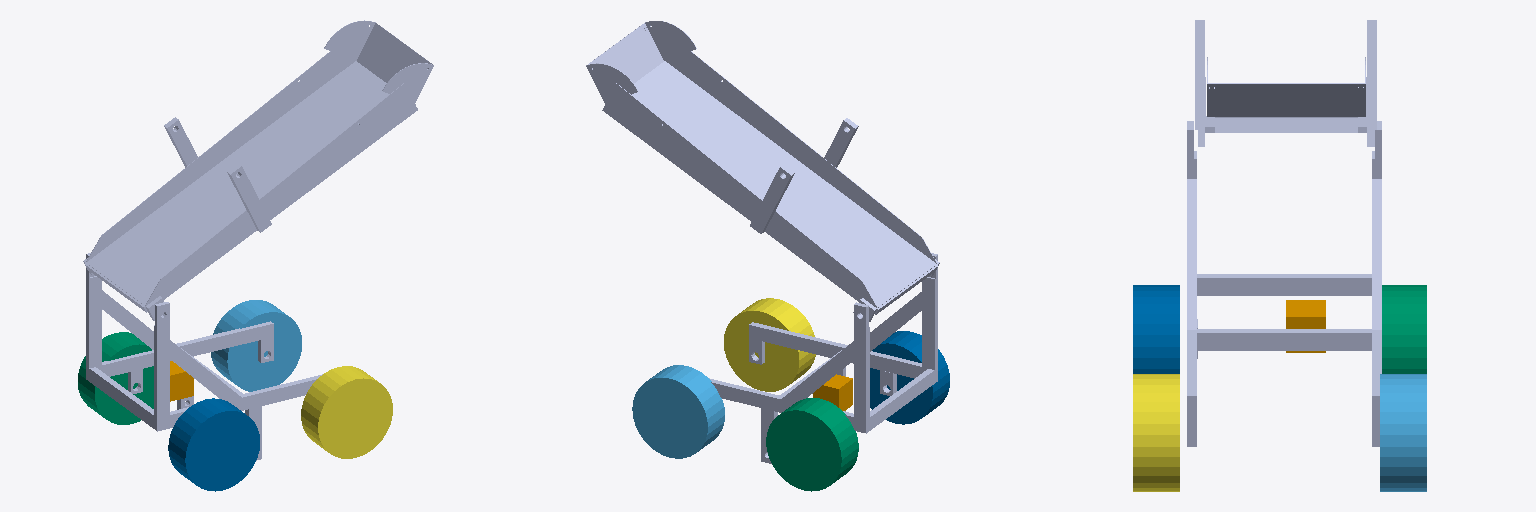
The robot description file, URDF, robot "traditional_2016":
<robot name="traditional_2016">
  <link
    name="base_link">
    <!--<inertial>
      <origin
        xyz="0.206554768494517 -0.0795431900918811 0.0631222383253213"
        rpy="0 0 0" />
      <mass
        value="4.21456466669016" />
      <inertia
        ixx="0.477265366590433"
        ixy="5.85653949780393E-07"
        ixz="0.0102918225723485"
        iyy="0.763593218192883"
        iyz="-3.27479812945717E-07"
        izz="0.364257676715045" />
    </inertial>
    <visual>
      <origin
        xyz="0 0 0"
        rpy="0 0 0" />
      <geometry>
        <mesh
          filename="package://gazebo_sim/meshes/Wheels.STL" />
      </geometry>
      <material
        name="">
        <color
          rgba="0.898039215686275 0.917647058823529 0.929411764705882 1" />
      </material>
    </visual>
    <collision>
      <origin
        xyz="0 0 0"
        rpy="0 0 0" />
      <geometry>
        <mesh
          filename="package://gazebo_sim/meshes/Wheels.STL" />
      </geometry>
    </collision>-->
    <visual>
      <geometry>
        <box size="0.1 0.1 0.1"/>
      </geometry>
      <origin xyz="0 0 0"/>
    </visual>
    <collision>
      <geometry>
        <box size="0.1 0.1 0.1"/>
      </geometry>
    </collision>
    <inertial>
        <origin xyz="0 0 0" rpy="0 0 0" />
        <mass value="1" />
        <inertia
          ixx="1.0" ixy="0.0" ixz="0.0"
          iyy="1.0" iyz="0.0"
          izz="1.0" />
    </inertial>
  </link>

  <link name="left_front_wheel">
    <visual>
      <geometry>
        <cylinder radius="0.15" length="0.118"/>
        <!--<mesh filename="package://gazebo_sim/meshes/wheel.stl" />-->
      </geometry>
      <material name="red"/>
      <origin xyz="0 0 0" rpy="1.57079632679 1.57079632679 0" />
    </visual>
    <collision>
      <geometry>
        <cylinder radius="0.15" length="0.118"/>
        <!--<mesh filename="package://gazebo_sim/meshes/wheel.stl" />-->
      </geometry>
      <origin xyz="0 0 0" rpy="1.57079632679 1.57079632679 0" />
    </collision>
    <mass value="1.05364116667" />
    <inertial>
      <origin xyz="0 0 0" rpy="0 0 0" />
      <mass value="1.05364116667" />
      <inertia
        ixx="1.0" ixy="0.0" ixz="0.0"
        iyy="1.0" iyz="0.0"
        izz="1.0" />
    </inertial>
  </link>

  <joint name="left_front_wheel_joint" type="continuous">
    <axis xyz="0 1 0" rpy="0 0 0" />
    <parent link="base_link"/>
    <child link="left_front_wheel"/>
    <origin xyz="0.47 0.247 -0.078" rpy="0 0 0"/>
  </joint>

  <!-- This block provides the simulator (Gazebo) with information on a few additional
  physical properties. See http://gazebosim.org/tutorials/?tut=ros_urdf for more-->
  <gazebo reference="left_front_wheel">
    <mu1 value="200.0"/>
    <mu2 value="100.0"/>
    <kp value="10000000.0" />
    <kd value="1.0" />
    <material>Gazebo/Grey</material>
  </gazebo>

  <!-- This block connects the wheel joint to an actuator (motor), which informs both
  simulation and visualization of the robot -->
  <transmission name="left_front_wheel_trans" type="SimpleTransmission">
    <type>transmission_interface/SimpleTransmission</type>
    <actuator name="left_front_wheel_motor">
      <mechanicalReduction>1</mechanicalReduction>
    </actuator>
    <joint name="left_front_wheel_joint">
      <hardwareInterface>VelocityJointInterface</hardwareInterface>
    </joint>
  </transmission>



  <link name="left_rear_wheel">
    <visual>
      <geometry>
        <cylinder radius="0.15" length="0.118"/>
        <!--<mesh filename="package://gazebo_sim/meshes/wheel.stl" />-->
      </geometry>
      <material name="red"/>
      <origin xyz="0 0 0" rpy="1.57079632679 1.57079632679 0" />
    </visual>
    <collision>
      <geometry>
        <cylinder radius="0.15" length="0.118"/>
        <!--<mesh filename="package://gazebo_sim/meshes/wheel.stl" />-->
      </geometry>
      <origin xyz="0 0 0" rpy="1.57079632679 1.57079632679 0" />
    </collision>
    <mass value="1.05364116667" />
    <inertial>
      <origin xyz="0 0 0" rpy="0 0 0" />
      <mass value="1.05364116667" />
      <inertia
        ixx="1.0" ixy="0.0" ixz="0.0"
        iyy="1.0" iyz="0.0"
        izz="1.0" />
    </inertial>
  </link>

  <joint name="left_rear_wheel_joint" type="continuous">
    <axis xyz="0 1 0" rpy="0 0 0" />
    <parent link="base_link"/>
    <child link="left_rear_wheel"/>
    <origin xyz="-0.06 0.247 -0.078" rpy="0 0 0"/>
  </joint>

  <!-- This block provides the simulator (Gazebo) with information on a few additional
  physical properties. See http://gazebosim.org/tutorials/?tut=ros_urdf for more-->
  <gazebo reference="left_rear_wheel">
    <mu1 value="200.0"/>
    <mu2 value="100.0"/>
    <kp value="10000000.0" />
    <kd value="1.0" />
    <material>Gazebo/Grey</material>
  </gazebo>

  <!-- This block connects the wheel joint to an actuator (motor), which informs both
  simulation and visualization of the robot -->
  <transmission name="left_rear_wheel_trans" type="SimpleTransmission">
    <type>transmission_interface/SimpleTransmission</type>
    <actuator name="left_rear_wheel_motor">
      <mechanicalReduction>1</mechanicalReduction>
    </actuator>
    <joint name="left_rear_wheel_joint">
      <hardwareInterface>VelocityJointInterface</hardwareInterface>
    </joint>
  </transmission>


  <link name="right_front_wheel">
    <visual>
      <geometry>
        <cylinder radius="0.15" length="0.118"/>
        <!--<mesh filename="package://gazebo_sim/meshes/wheel.stl" />-->
      </geometry>
      <material name="red"/>
      <origin xyz="0 0 0" rpy="1.57079632679 1.57079632679 0" />
    </visual>
    <collision>
      <geometry>
        <cylinder radius="0.15" length="0.118"/>
        <!--<mesh filename="package://gazebo_sim/meshes/wheel.stl" />-->
      </geometry>
      <origin xyz="0 0 0" rpy="1.57079632679 1.57079632679 0" />
    </collision>
    <mass value="1.05364116667" />
    <inertial>
      <origin xyz="0 0 0" rpy="0 0 0" />
      <mass value="1.05364116667" />
      <inertia
        ixx="1.0" ixy="0.0" ixz="0.0"
        iyy="1.0" iyz="0.0"
        izz="1.0" />
    </inertial>
  </link>

  <joint name="right_front_wheel_joint" type="continuous">
    <axis xyz="0 1 0" rpy="0 0 0" />
    <parent link="base_link"/>
    <child link="right_front_wheel"/>
    <origin xyz="0.47 -0.38 -0.078" rpy="0 0 0"/>
  </joint>

  <!-- This block provides the simulator (Gazebo) with information on a few additional
  physical properties. See http://gazebosim.org/tutorials/?tut=ros_urdf for more-->
  <gazebo reference="right_front_wheel">
    <mu1 value="200.0"/>
    <mu2 value="100.0"/>
    <kp value="10000000.0" />
    <kd value="1.0" />
    <material>Gazebo/Grey</material>
  </gazebo>

  <!-- This block connects the wheel joint to an actuator (motor), which informs both
  simulation and visualization of the robot -->
  <transmission name="right_front_wheel_trans" type="SimpleTransmission">
    <type>transmission_interface/SimpleTransmission</type>
    <actuator name="right_front_wheel_motor">
      <mechanicalReduction>1</mechanicalReduction>
    </actuator>
    <joint name="right_front_wheel_joint">
      <hardwareInterface>VelocityJointInterface</hardwareInterface>
    </joint>
  </transmission>


  <link name="right_rear_wheel">
    <visual>
      <geometry>
        <cylinder radius="0.15" length="0.118"/>
        <!--<mesh filename="package://gazebo_sim/meshes/wheel.stl" />-->
      </geometry>
      <material name="red"/>
      <origin xyz="0 0 0" rpy="1.57079632679 1.57079632679 0" />
    </visual>
    <collision>
      <geometry>
        <cylinder radius="0.15" length="0.118"/>
        <!--<mesh filename="package://gazebo_sim/meshes/wheel.stl" />-->
      </geometry>
      <origin xyz="0 0 0" rpy="0 0 0" />
    </collision>
    <mass value="1.05364116667" />
    <inertial>
      <origin xyz="0 0 0" rpy="0 0 0" />
      <mass value="1.05364116667" />
      <inertia
        ixx="1.0" ixy="0.0" ixz="0.0"
        iyy="1.0" iyz="0.0"
        izz="1.0" />
    </inertial>
  </link>

  <joint name="right_rear_wheel_joint" type="continuous">
    <axis xyz="0 1 0" rpy="0 0 0" />
    <parent link="base_link"/>
    <child link="right_rear_wheel"/>
    <origin xyz="-0.06 -0.38 -0.078" rpy="0 0 0"/>
  </joint>

  <!-- This block provides the simulator (Gazebo) with information on a few additional
  physical properties. See http://gazebosim.org/tutorials/?tut=ros_urdf for more-->
  <gazebo reference="right_rear_wheel">
    <mu1 value="200.0"/>
    <mu2 value="100.0"/>
    <kp value="10000000.0" />
    <kd value="1.0" />
    <material>Gazebo/Grey</material>
  </gazebo>

  <!-- This block connects the wheel joint to an actuator (motor), which informs both
  simulation and visualization of the robot -->
  <transmission name="right_rear_wheel_trans" type="SimpleTransmission">
    <type>transmission_interface/SimpleTransmission</type>
    <actuator name="right_rear_wheel_motor">
      <mechanicalReduction>1</mechanicalReduction>
    </actuator>
    <joint name="right_rear_wheel_joint">
      <hardwareInterface>VelocityJointInterface</hardwareInterface>
    </joint>
  </transmission>

  <link
    name="Chassis">
    <inertial>
      <origin
        xyz="0.00537203309859674 0.0324234507011438 0.0264308659835239"
        rpy="0 0 0" />
      <mass
        value="5.77445129953138" />
      <inertia
        ixx="0.365239843707374"
        ixy="-0.0788206642300129"
        ixz="-7.33214184688591E-05"
        iyy="0.534123072874955"
        iyz="-0.000142675188855589"
        izz="0.347697997490539" />
    </inertial>
    <visual>
      <origin
        xyz="0 0 0"
        rpy="0 0 0" />
      <geometry>
        <mesh
          filename="package://gazebo_sim/meshes/Chassis.STL" />
      </geometry>
      <material
        name="">
        <color
          rgba="0.792156862745098 0.819607843137255 0.933333333333333 1" />
      </material>
    </visual>
    <collision>
      <origin
        xyz="0 0 0"
        rpy="0 0 0" />
      <geometry>
        <mesh
          filename="package://gazebo_sim/meshes/Chassis.STL" />
      </geometry>
    </collision>
  </link>
  <joint
    name="Chassis Joint"
    type="fixed">
    <origin
      xyz="0.0010512 -0.028441 0.02543"
      rpy="1.5708 0 0" />
    <parent
      link="base_link" />
    <child
      link="Chassis" />
    <axis
      xyz="0 0 0" />
  </joint>
  <link
    name="Sideplate Frame">
    <inertial>
      <origin
        xyz="0.534654881934719 0.0554942463427044 0.0222254189562616"
        rpy="0 0 0" />
      <!--<mass
        value="4.69519028792857" />-->
        <mass
        value="0.1" />
      <inertia
        ixx="0.152487065123148"
        ixy="0.000712809927621225"
        ixz="3.82126318742745E-05"
        iyy="0.689273285117902"
        iyz="-8.85452571210599E-07"
        izz="0.563699922198218" />
    </inertial>
    <visual>
      <origin
        xyz="0 0 0"
        rpy="0 0 0" />
      <geometry>
        <mesh
          filename="package://gazebo_sim/meshes/Sideplate Frame.STL" />
      </geometry>
      <material
        name="">
        <color
          rgba="0.792156862745098 0.819607843137255 0.933333333333333 1" />
      </material>
    </visual>
    <collision>
      <origin
        xyz="0 0 0"
        rpy="0 0 0" />
      <geometry>
        <mesh
          filename="package://gazebo_sim/meshes/Sideplate Frame.STL" />
      </geometry>
    </collision>
  </link>
  <joint
    name="Sideplate_Frame_Joint"
    type="revolute">
    <origin
      xyz="-0.21821 0.39829 0"
      rpy="0 0 0.44824" />
    <parent
      link="Chassis" />
    <child
      link="Sideplate Frame" />
    <axis
      xyz="0 0 -1" />
    <limit
      lower="-.25"
      upper="1"
      effort="0"
      velocity="0" />
  </joint>

  <!-- This block connects the Sideplate_Frame_Joint joint to an actuator (motor), which informs both
  simulation and visualization of the robot -->
  <transmission name="sideplate_frame_trans" type="SimpleTransmission">
    <type>transmission_interface/SimpleTransmission</type>
    <actuator name="sideplate_frame_motor">
      <mechanicalReduction>1</mechanicalReduction>
    </actuator>
    <joint name="Sideplate_Frame_Joint">
      <hardwareInterface>PositionJointInterface</hardwareInterface>
    </joint>
  </transmission>

  <link
    name="Front Piece">
    <inertial>
      <origin
        xyz="0.0211201213624709 -0.0622114951604884 0.0405972047787488"
        rpy="0 0 0" />
      <!--<mass
        value="0.239915601207774" />-->
        <mass
        value="0.01" />
      <inertia
        ixx="0.000803970641621702"
        ixy="1.55552742603821E-17"
        ixz="3.42480201724112E-18"
        iyy="0.00613090605048072"
        iyz="-1.03391895166171E-05"
        izz="0.00595803680721281" />
    </inertial>
    <visual>
      <origin
        xyz="0 0 0"
        rpy="0 0 0" />
      <geometry>
        <mesh
          filename="package://gazebo_sim/meshes/Front Piece.STL" />
      </geometry>
      <material
        name="">
        <color
          rgba="0.792156862745098 0.819607843137255 0.933333333333333 1" />
      </material>
    </visual>
    <collision>
      <origin
        xyz="0 0 0"
        rpy="0 0 0" />
      <geometry>
        <mesh
          filename="package://gazebo_sim/meshes/Front Piece.STL" />
      </geometry>
    </collision>
  </link>
  <joint
    name="Front_Piece_Joint"
    type="revolute">
    <origin
      xyz="1.1653 0.044207 0"
      rpy="0.78967 -1.5708 0" />
    <parent
      link="Sideplate Frame" />
    <child
      link="Front Piece" />
    <axis
      xyz="-1 0 0" />
    <limit
      lower="-2.935619449019"
      upper="-1.57079632679"
      effort="0"
      velocity="0" />
  </joint>

  <!-- This block connects the Front_Piece_Joint joint to an actuator (motor), which informs both
  simulation and visualization of the robot -->
  <transmission name="front_piece_trans" type="SimpleTransmission">
    <type>transmission_interface/SimpleTransmission</type>
    <actuator name="front_piece_motor">
      <mechanicalReduction>1</mechanicalReduction>
    </actuator>
    <joint name="Front_Piece_Joint">
      <hardwareInterface>PositionJointInterface</hardwareInterface>
    </joint>
  </transmission>

  <link name="offsetMass">
    <visual>
      <geometry>
        <box size="0 0 0"/>
      </geometry>
      <origin xyz="0 0 0"/>
    </visual>
    <collision>
      <geometry>
        <box size="0 0 0"/>
      </geometry>
    </collision>
    <inertial>
      <mass value="3"/>
      <inertia ixx="1.0" ixy="0.0" ixz="0.0" iyy="1.0" iyz="0.0" izz="1.0"/>
    </inertial>
  </link>

  <joint name="offsetMass_joint" type="fixed">
    <parent link="Chassis"/>
    <child link="offsetMass"/>
    <origin xyz="0.54 0 0" />
  </joint>

  <link name="front_kinect">
  </link>

  <gazebo reference="front_kinect">
    <material>Gazebo/Black</material>
  </gazebo>

  <joint name="tokinect" type="fixed">
    <parent link="Chassis"/>
    <child link="front_kinect"/>
    <origin rpy="0 3.1415926535897931 2.8" xyz="0.52 0.35 -0.25"/>
  </joint>

  <joint name="camera_rgb_joint" type="fixed">
    <origin xyz="0 0 0" rpy="0 0 0"/>
    <parent link="front_kinect"/>
    <child link="camera_rgb_frame" />
  </joint>
  <link name="camera_rgb_frame"/>
  <joint name="camera_rgb_optical_joint" type="fixed">
    <origin xyz="0 0 0" rpy="-1.57079632679 0 -1.57079632679" />
    <parent link="camera_rgb_frame" />
    <child link="camera_rgb_optical_frame" />
  </joint>
  <link name="camera_rgb_optical_frame"/>
  <joint name="camera_joint" type="fixed">
    <origin xyz="-0.031 0.0125 -0.016" rpy="0 0 0"/>
    <parent link="camera_rgb_frame"/>
    <child link="camera_link"/>
  </joint>  
  <link name="camera_link">
    <visual>
      <origin xyz="0 0 0" rpy="0 0 1.57079632679"/>
      <geometry>
        <mesh filename="package://turtlebot_description/meshes/sensors/kinect.dae"/>
      </geometry>
    </visual>
    <collision>
      <origin xyz="0.0 0.0 0.0" rpy="0 0 0"/>
      <geometry>
        <box size="0.07271 0.27794 0.073"/>
      </geometry>
    </collision>
    <inertial>
      <mass value="0.564" />
      <origin xyz="0 0 0" />
      <inertia ixx="0.003881243" ixy="0.0" ixz="0.0"
               iyy="0.000498940" iyz="0.0"
               izz="0.003879257" />
    </inertial>
  </link>
  <joint name="camera_depth_joint" type="fixed">
    <origin xyz="0 0.025 0" rpy="0 0 0" />
    <parent link="camera_rgb_frame" />
    <child link="camera_depth_frame" />
  </joint>
  <link name="camera_depth_frame"/>
  <joint name="camera_depth_optical_joint" type="fixed">
    <origin xyz="0 0 0" rpy="-1.57079632679 0 -1.57079632679" />
    <parent link="camera_depth_frame" />
    <child link="camera_depth_optical_frame" />
  </joint>
  <link name="camera_depth_optical_frame"/>
  <gazebo reference="camera_link">  
    <sensor type="depth" name="camera">
      <always_on>true</always_on>
      <update_rate>20.0</update_rate>
      <camera>
        <horizontal_fov>1.0471975512</horizontal_fov>
        <image>
          <format>R8G8B8</format>
          <width>640</width>
          <height>480</height>
        </image>
        <clip>
          <near>0.05</near>
          <far>8.0</far>
        </clip>
      </camera>
      <plugin name="kinect_camera_controller" filename="libgazebo_ros_openni_kinect.so">
        <cameraName>camera</cameraName>
        <alwaysOn>true</alwaysOn>
        <updateRate>10</updateRate>
        <imageTopicName>rgb/image_raw</imageTopicName>
        <depthImageTopicName>depth/image_raw</depthImageTopicName>
        <pointCloudTopicName>depth/points</pointCloudTopicName>
        <cameraInfoTopicName>rgb/camera_info</cameraInfoTopicName>
        <depthImageCameraInfoTopicName>depth/camera_info</depthImageCameraInfoTopicName>
        <frameName>camera_depth_optical_frame</frameName>
        <baseline>0.1</baseline>
        <distortion_k1>0.0</distortion_k1>
        <distortion_k2>0.0</distortion_k2>
        <distortion_k3>0.0</distortion_k3>
        <distortion_t1>0.0</distortion_t1>
        <distortion_t2>0.0</distortion_t2>
        <pointCloudCutoff>0.4</pointCloudCutoff>
      </plugin>
    </sensor>
  </gazebo>

  <!-- Gazebo plugin for ROS Control -->
  <gazebo>
    <plugin name="gazebo_ros_control" filename="libgazebo_ros_control.so">
      <robotNamespace>/</robotNamespace>
    </plugin>
  </gazebo>

</robot>

--- Facts derived from the render (not from the file) ---
The picture shows the robot from 3 angles, left to right: view 1: azimuth 30°, elevation 25°; view 2: azimuth 150°, elevation 25°; view 3: azimuth 270°, elevation 25°; orthographic projection.
Model traditional_2016 with 15 links and 14 joints (2 revolute, 4 continuous, 8 fixed), rooted at base_link, posed all joints at 0 but 1 set to mid-range because 0 is outside their limits (Front_Piece_Joint = -2.25).
Links seen in each view (by area): view 1: Sideplate Frame, Chassis, right_front_wheel, right_rear_wheel, left_front_wheel, Front Piece, left_rear_wheel, base_link; view 2: Sideplate Frame, Chassis, left_front_wheel, left_rear_wheel, right_front_wheel, Front Piece, right_rear_wheel, base_link; view 3: Chassis, left_front_wheel, right_front_wheel, Front Piece, Sideplate Frame, right_rear_wheel, left_rear_wheel, base_link.
Link boxes in pixels (bbox=[...]): Sideplate Frame: bbox=[83, 51, 417, 320]; Chassis: bbox=[86, 253, 322, 460]; right_front_wheel: bbox=[301, 366, 392, 458]; right_rear_wheel: bbox=[168, 398, 259, 491]; left_front_wheel: bbox=[211, 300, 301, 391]; Front Piece: bbox=[324, 20, 433, 102]; left_rear_wheel: bbox=[78, 332, 153, 424]; base_link: bbox=[170, 361, 193, 401]; Sideplate Frame: bbox=[602, 51, 939, 321]; Chassis: bbox=[709, 253, 937, 463]; left_front_wheel: bbox=[632, 365, 724, 458]; left_rear_wheel: bbox=[766, 398, 858, 491]; right_front_wheel: bbox=[724, 298, 815, 391]; Front Piece: bbox=[586, 21, 696, 103]; right_rear_wheel: bbox=[870, 331, 949, 424]; base_link: bbox=[813, 374, 852, 410]; Chassis: bbox=[1187, 121, 1381, 446]; left_front_wheel: bbox=[1380, 374, 1426, 491]; right_front_wheel: bbox=[1133, 374, 1179, 491]; Front Piece: bbox=[1207, 57, 1365, 116]; Sideplate Frame: bbox=[1195, 20, 1376, 146]; right_rear_wheel: bbox=[1133, 285, 1179, 373]; left_rear_wheel: bbox=[1382, 285, 1426, 373]; base_link: bbox=[1286, 300, 1325, 352].
Size in the robot's own frame: 1.16 by 0.745 by 1.35 metres.
3 mesh visuals loaded from 4 distinct referenced files (3 binary STL); not drawn: 1 (reference not matched to a file when rendering).